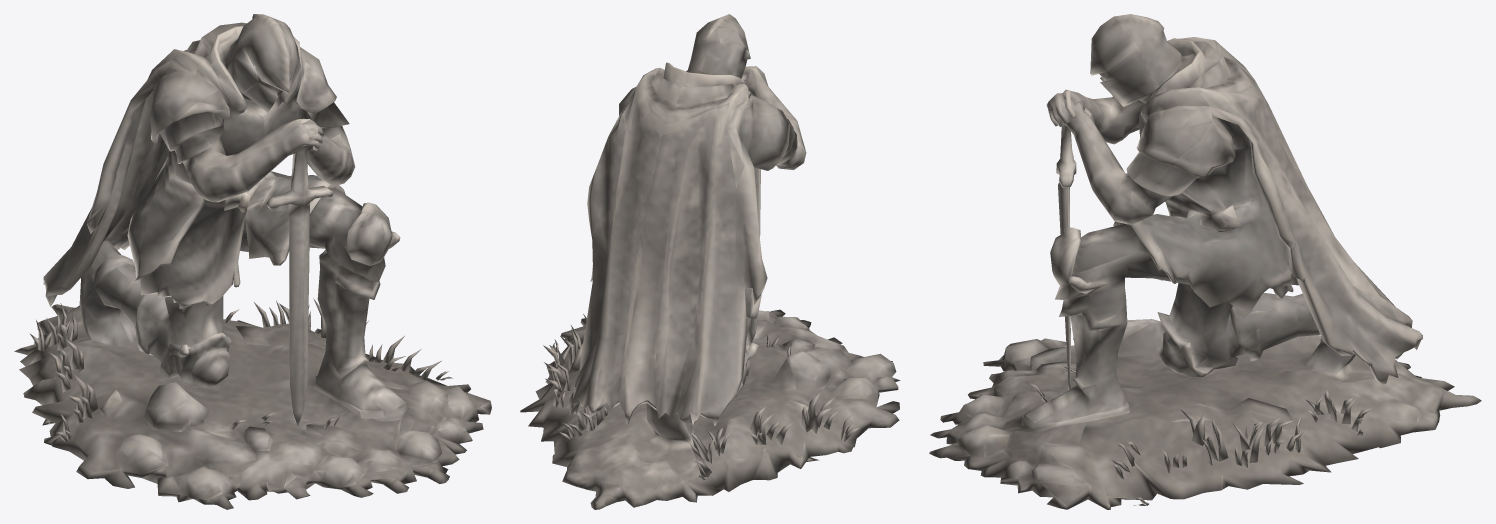
The model's file is banner.glb.
3 views of the same model, side by side, from view 1: azimuth 30°, elevation 25°; view 2: azimuth 150°, elevation 25°; view 3: azimuth 270°, elevation 25° (orthographic). The views are drawn at different scales.
Parts seen in each view (by area): view 1: KnightBanner_0, KnightBanner_1; view 2: KnightBanner_0, KnightBanner_1; view 3: KnightBanner_0, KnightBanner_1.
Boxes of the visible parts, x1=… form: KnightBanner_0: x1=14, y1=14, x2=491, y2=509; KnightBanner_1: x1=19, y1=14, x2=491, y2=504; KnightBanner_0: x1=520, y1=14, x2=898, y2=509; KnightBanner_1: x1=541, y1=14, x2=900, y2=508; KnightBanner_0: x1=940, y1=14, x2=1481, y2=509; KnightBanner_1: x1=929, y1=39, x2=1444, y2=509.
Bounding box in the file's own units: 13.52 × 14 × 17.25.
Materials: 1 (1 with a texture image).
